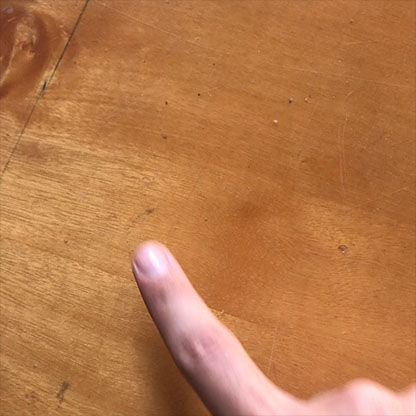fingertip: (119, 240, 190, 289)
